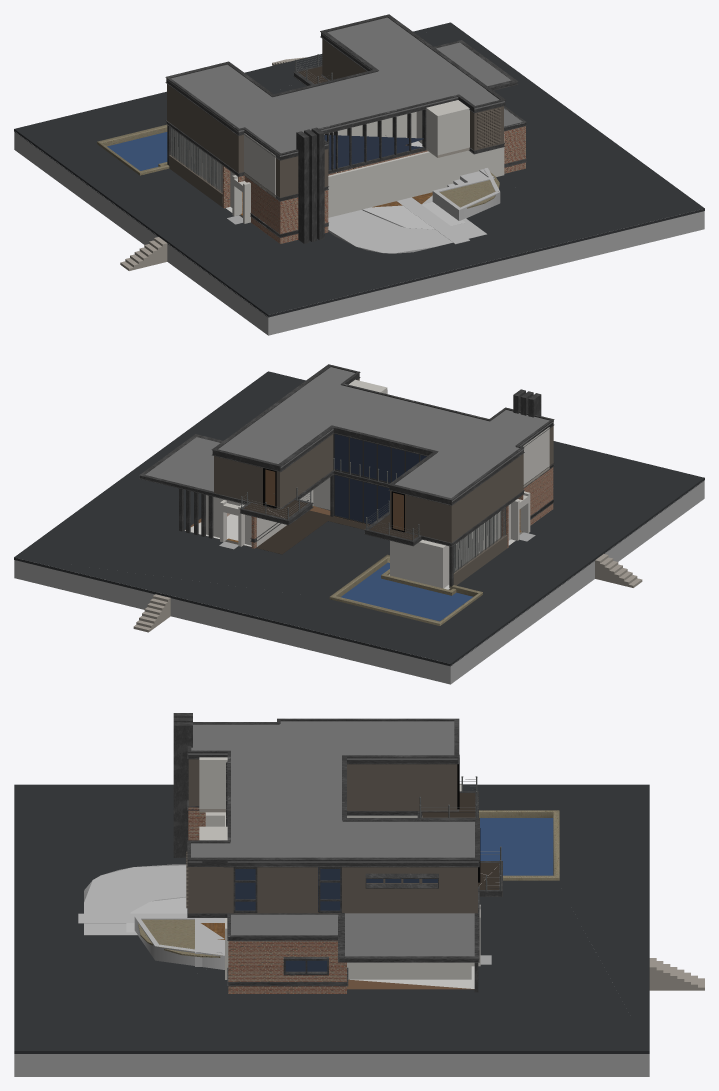
Rendered from pool-villa.well-v1.lod0.glb.
3 renders of one model, top to bottom at view 1: azimuth 30°, elevation 25°; view 2: azimuth 150°, elevation 25°; view 3: azimuth 270°, elevation 25°, orthographic. The views are drawn at different scales.
Parts seen in each view (by area): view 1: Rectangle001_Material #26_0, Box001_Material #8_0, Line001_Material #1_0, Line064_Material #3_0, Cylinder001_Material #7_0; view 2: Rectangle001_Material #26_0, Box001_Material #8_0, Cylinder001_Material #7_0, Line064_Material #3_0, Line001_Material #1_0; view 3: Rectangle001_Material #26_0, Box001_Material #8_0, Line001_Material #1_0, Line064_Material #3_0.
Boxes of the visible parts, bbox=[...] form: Rectangle001_Material #26_0: bbox=[14, 17, 704, 335]; Box001_Material #8_0: bbox=[165, 14, 526, 243]; Line001_Material #1_0: bbox=[222, 126, 525, 243]; Line064_Material #3_0: bbox=[97, 124, 499, 208]; Cylinder001_Material #7_0: bbox=[171, 54, 332, 192]; Rectangle001_Material #26_0: bbox=[14, 367, 704, 684]; Box001_Material #8_0: bbox=[139, 364, 554, 587]; Cylinder001_Material #7_0: bbox=[241, 458, 505, 573]; Line064_Material #3_0: bbox=[329, 554, 482, 625]; Line001_Material #1_0: bbox=[251, 467, 553, 548]; Rectangle001_Material #26_0: bbox=[14, 721, 704, 1076]; Box001_Material #8_0: bbox=[173, 713, 502, 992]; Line001_Material #1_0: bbox=[188, 807, 346, 993]; Line064_Material #3_0: bbox=[138, 810, 559, 957].
Size of the model in its own units: 37.77 by 9.63 by 38.06.
7 materials, 5 textured.
